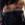with_mask: (2, 2, 25, 25)
